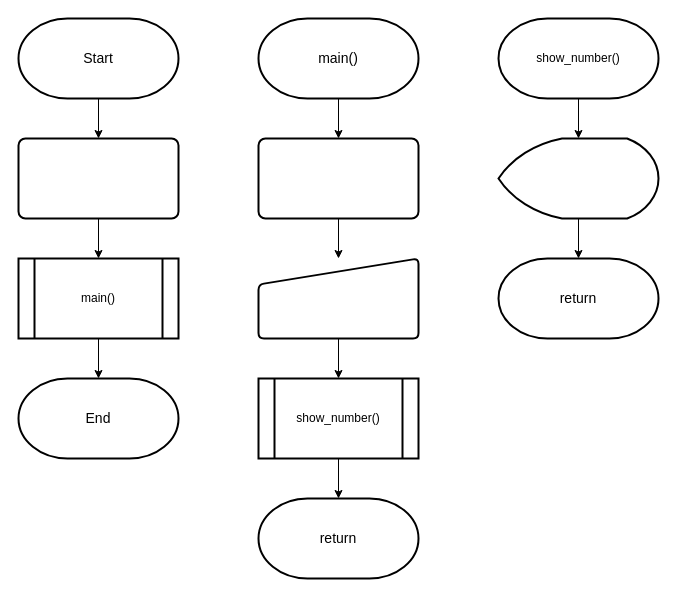
Some shapes in this 676 by 596 pixel diagram are drawn without their labels. The centre of each missing label's shape, as x and y in pixels:
"Enter a number" number: (338,298)
"The number you entered is" number: (578,178)
global number: (338,178)
number = 0: (98,178)
